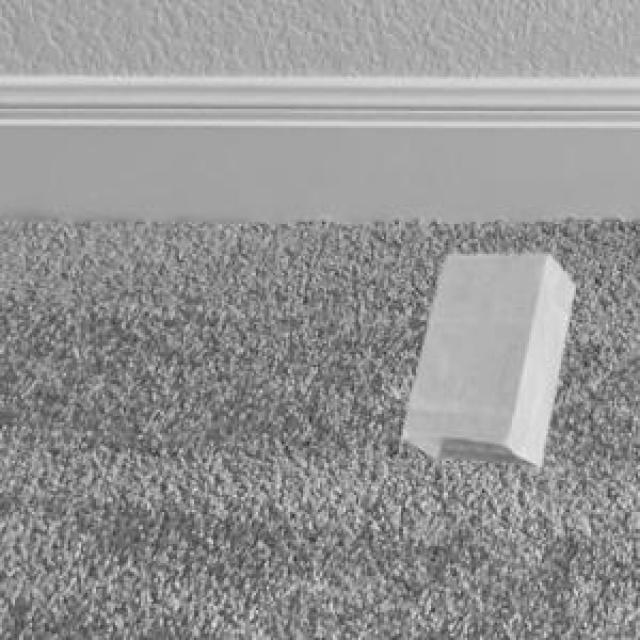paper: (399, 250, 572, 463)
